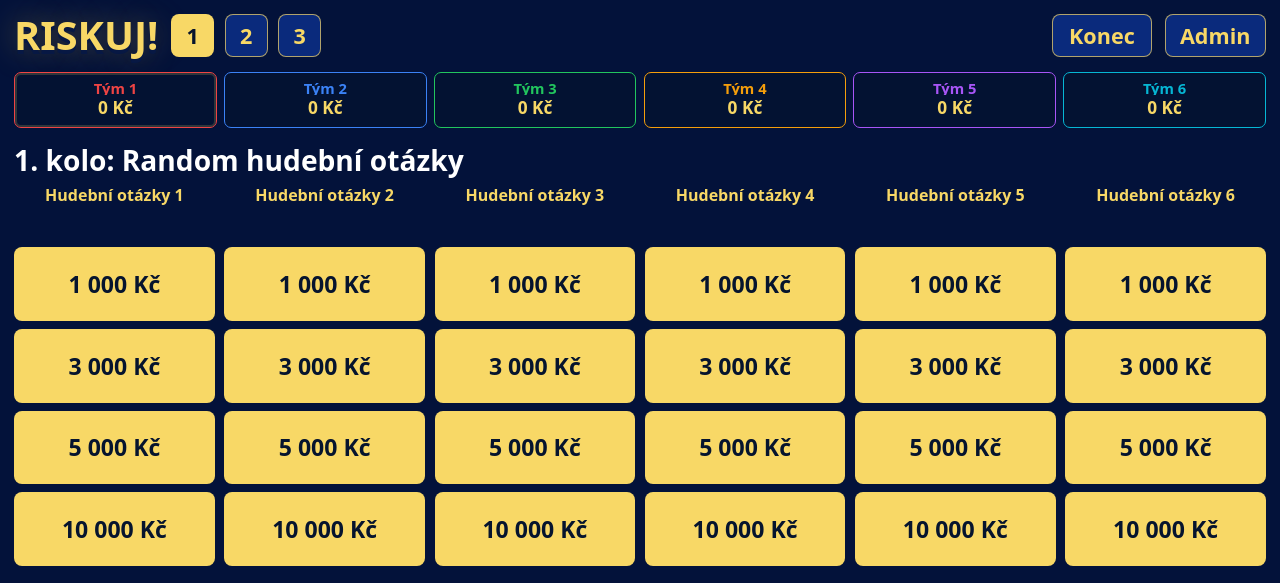
Scenario: PlayPage › zobrazuje vždy jen jedno soutěžní kolo a přepíná ho tlačítky 1 2 3
expect the heading "Riskuj!" is shown: met, box [14,17,158,54]
expect the heading "1. kolo: Random hudební otázky" is shown: met, box [14,141,464,179]
Click the tab "2". click: x=246, y=36
box: [225,14,268,57]
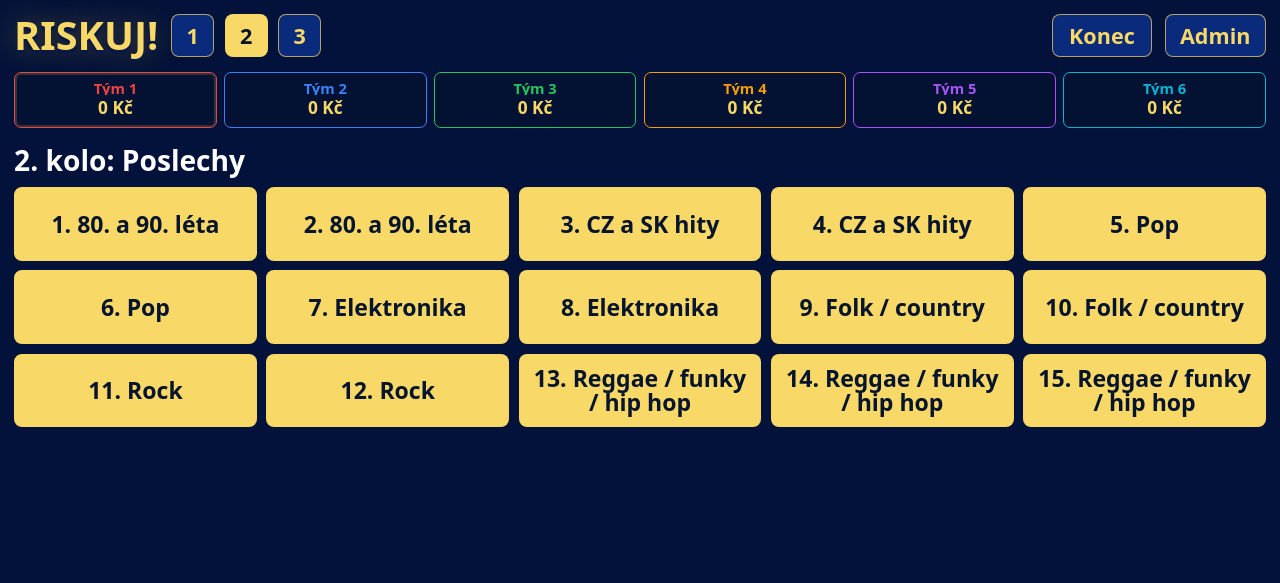
expect the heading "1. kolo" is gone: met
expect the heading "2. kolo: Poslechy" is shown: met, box [14,141,245,179]
Click the tab "3". click: x=300, y=36
box: [278,14,321,57]
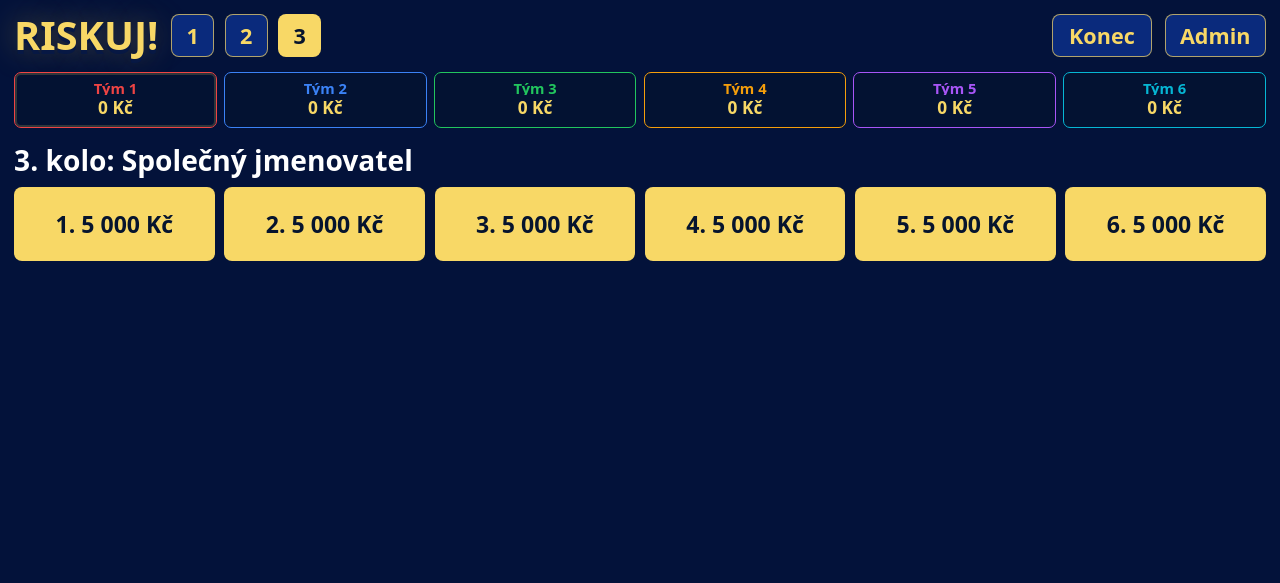
expect the heading "2. kolo" is gone: met
expect the heading "3. kolo: Společný jmenovatel" is shown: met, box [14,141,413,179]
